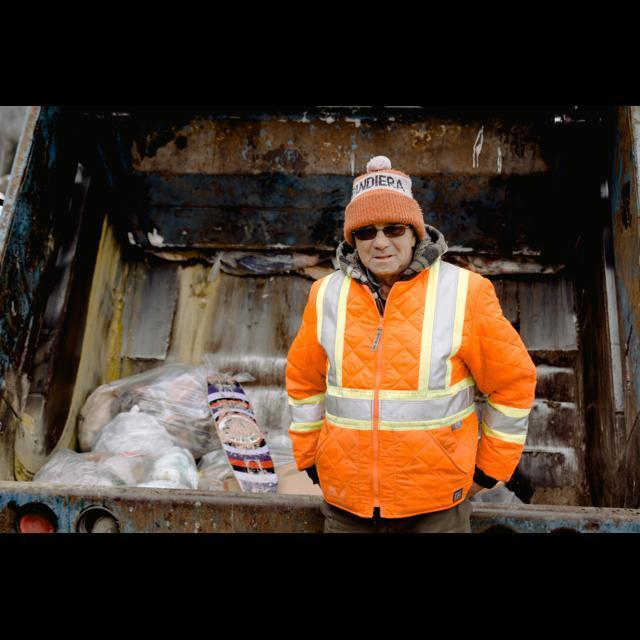safety_vest: (294, 266, 513, 514)
